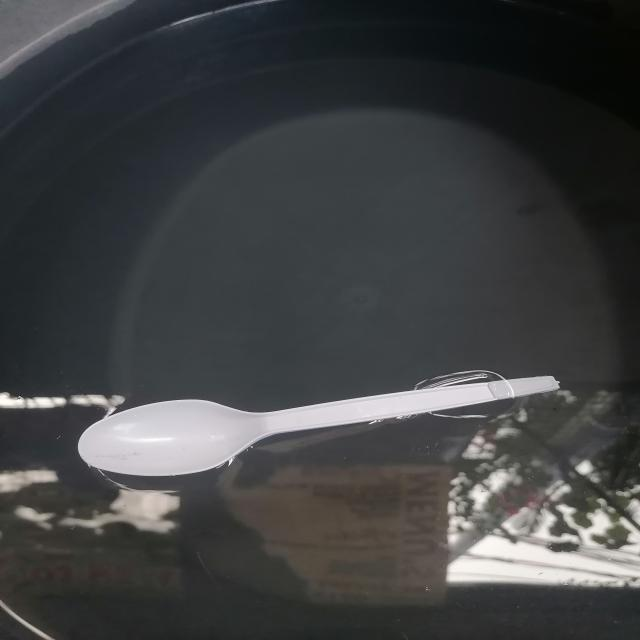Plastic Spoon: (78, 371, 559, 479)
